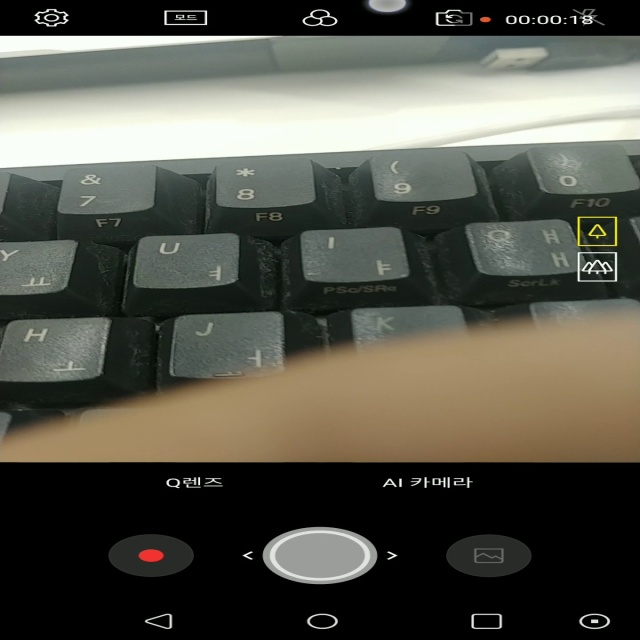Cursor: (367, 1, 409, 16)
